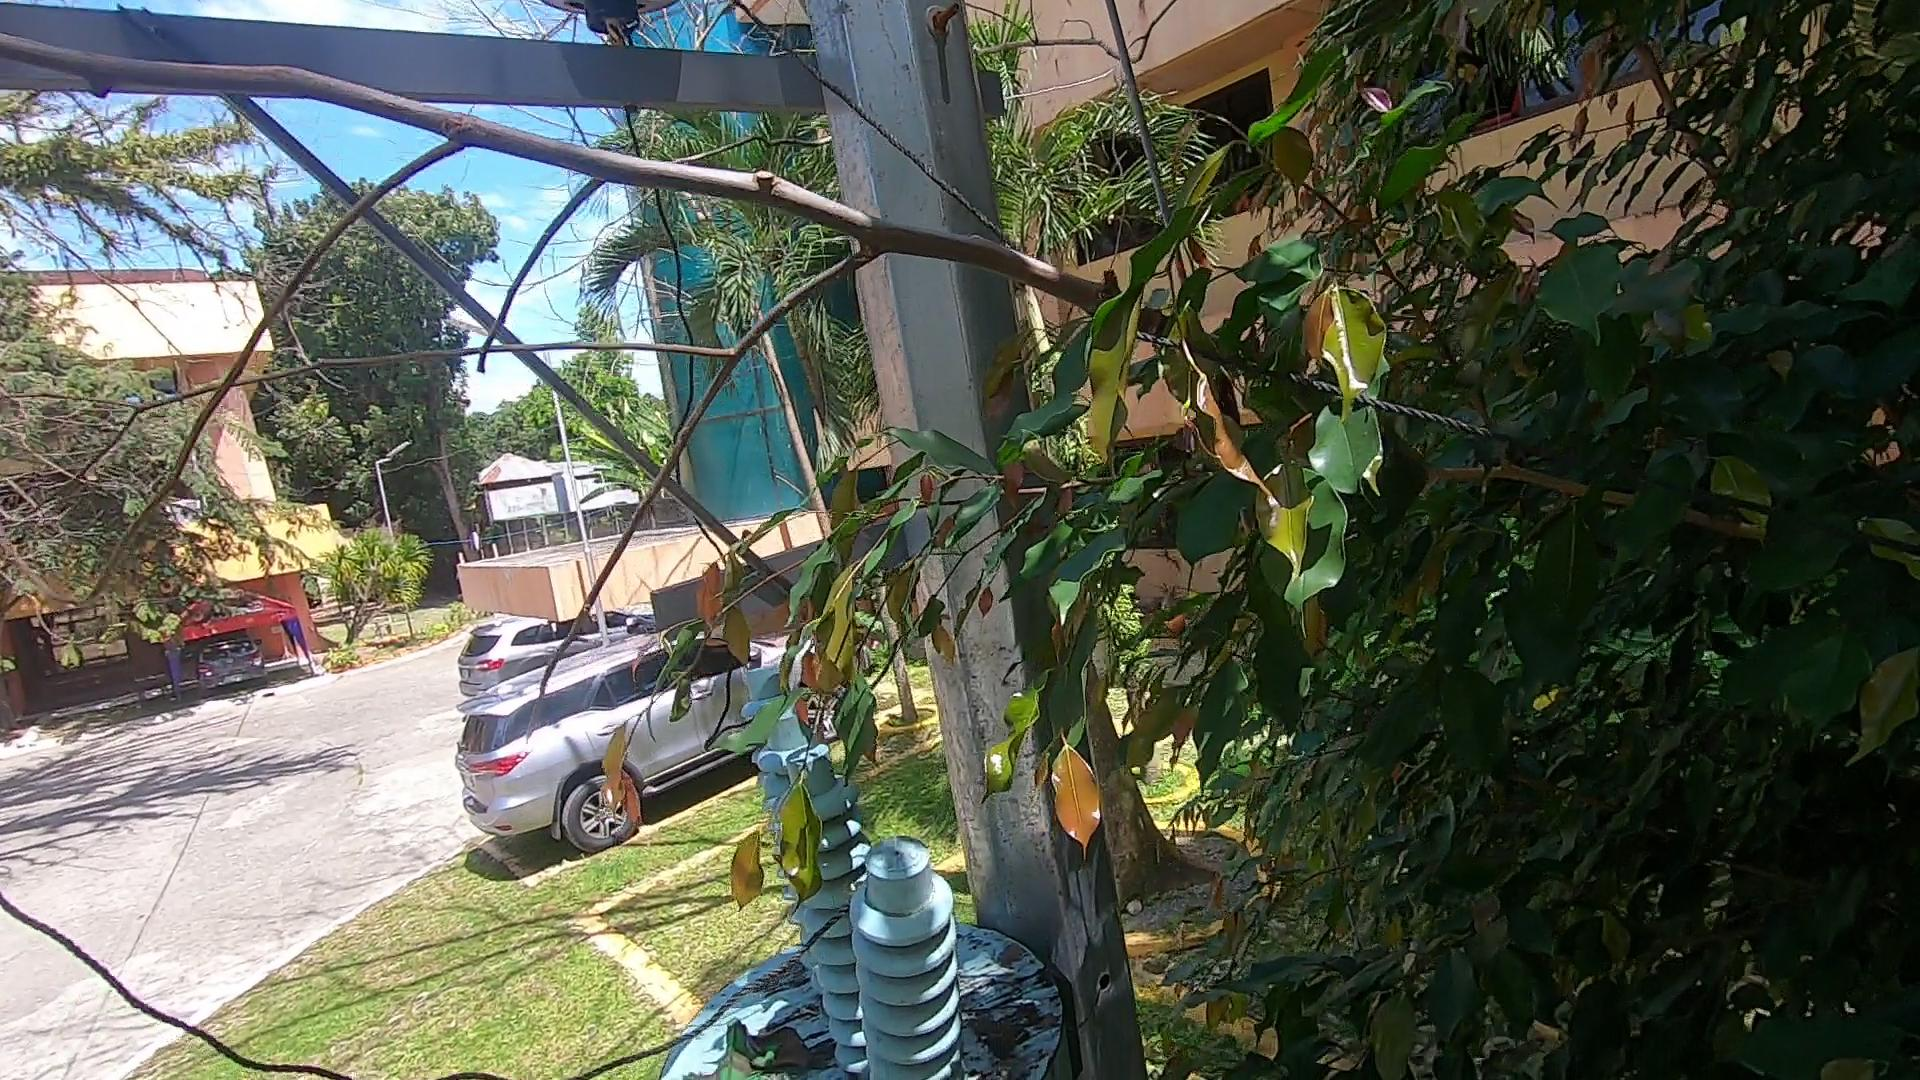leaf: (756, 1021, 825, 1080)
tree branch: (1, 28, 1164, 705)
